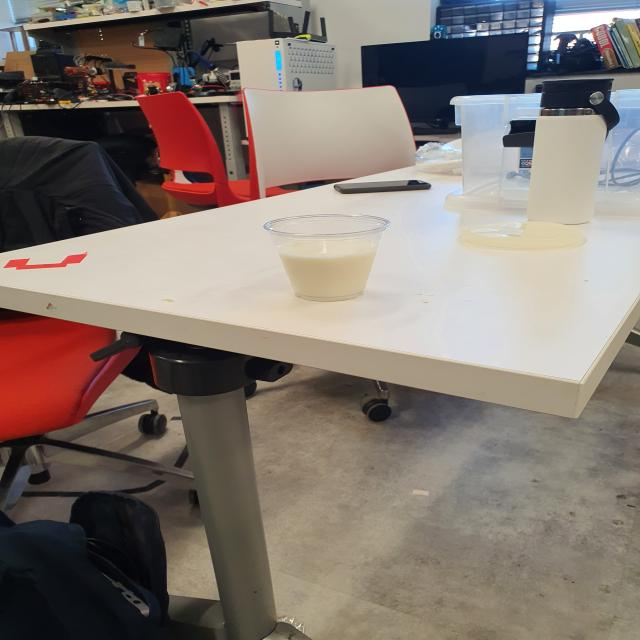Milk: (250, 199, 423, 321)
